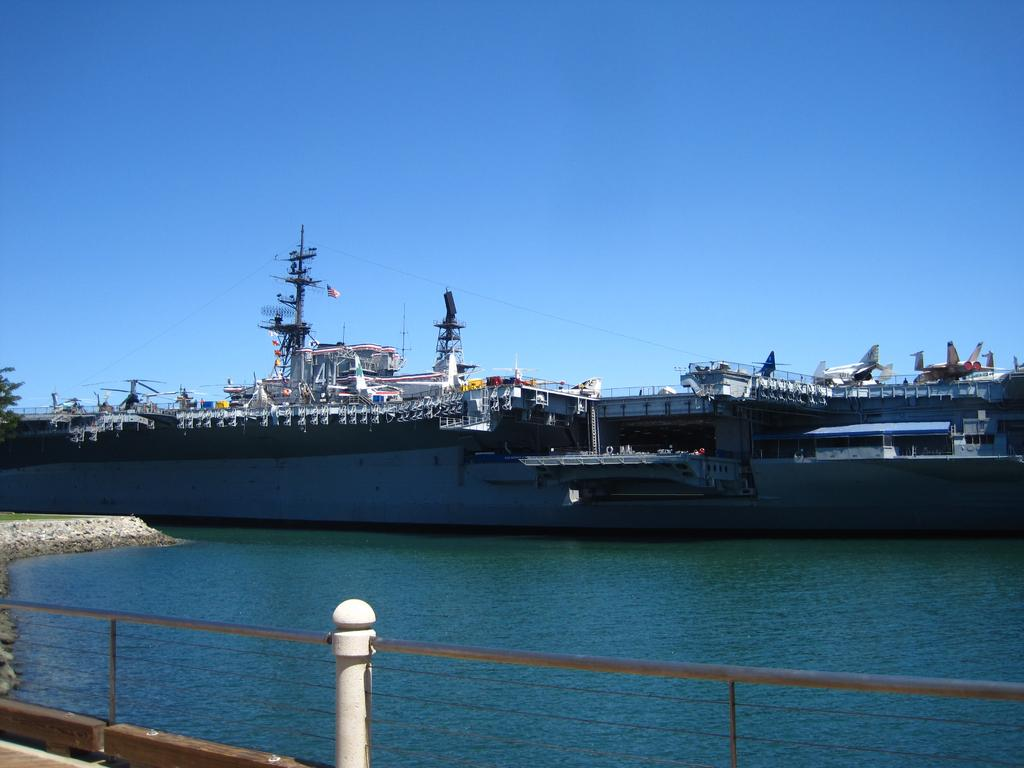Warship: (0, 230, 1024, 564)
